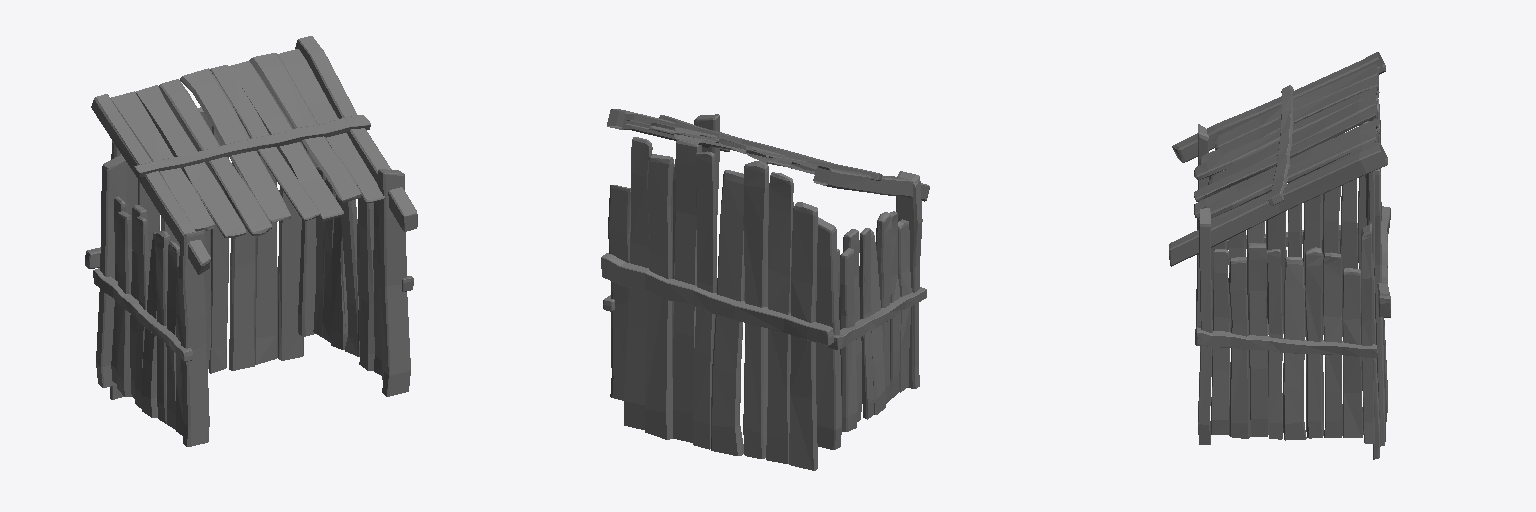
Rendered from shed.obj.
The picture shows the model from 3 angles: view 1: azimuth 30°, elevation 25°; view 2: azimuth 150°, elevation 25°; view 3: azimuth 270°, elevation 25°; orthographic projection.
Visible parts, largest first — view 1: prop_shed_01_未命名.001; view 2: prop_shed_01_未命名.001; view 3: prop_shed_01_未命名.001.
Part boxes in pixels (x1,y1,x2,y2): prop_shed_01_未命名.001: (85, 36, 417, 446); prop_shed_01_未命名.001: (601, 109, 929, 470); prop_shed_01_未命名.001: (1169, 52, 1390, 459).
Bounding box in the file's own units: 5.94 × 7.68 × 4.91.